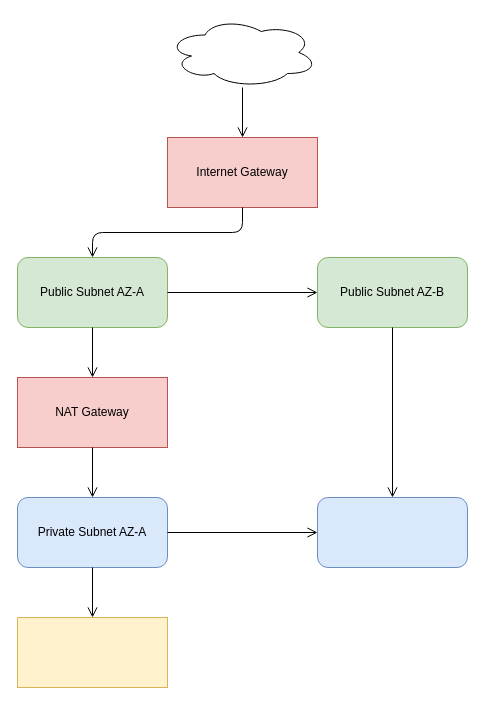
Some shapes in this 485 by 705 pixel diagram are drawn without their labels. The shapes that lost their labels are listed below. From the top down, each one's box as (x1, y1, x2, y2) in pixels, then its label:
(166, 16, 318, 88): Internet
(316, 496, 468, 568): Private Subnet AZ-B
(16, 616, 168, 688): EC2 / ASG (Lab 02)
